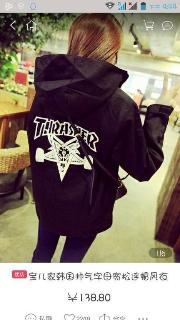long sleeve top: (27, 81, 174, 237)
trousers: (30, 200, 97, 263)
